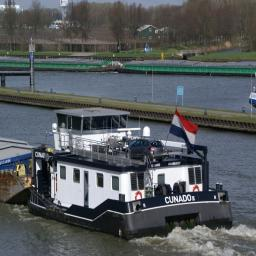tugboat: (26, 102, 235, 248)
